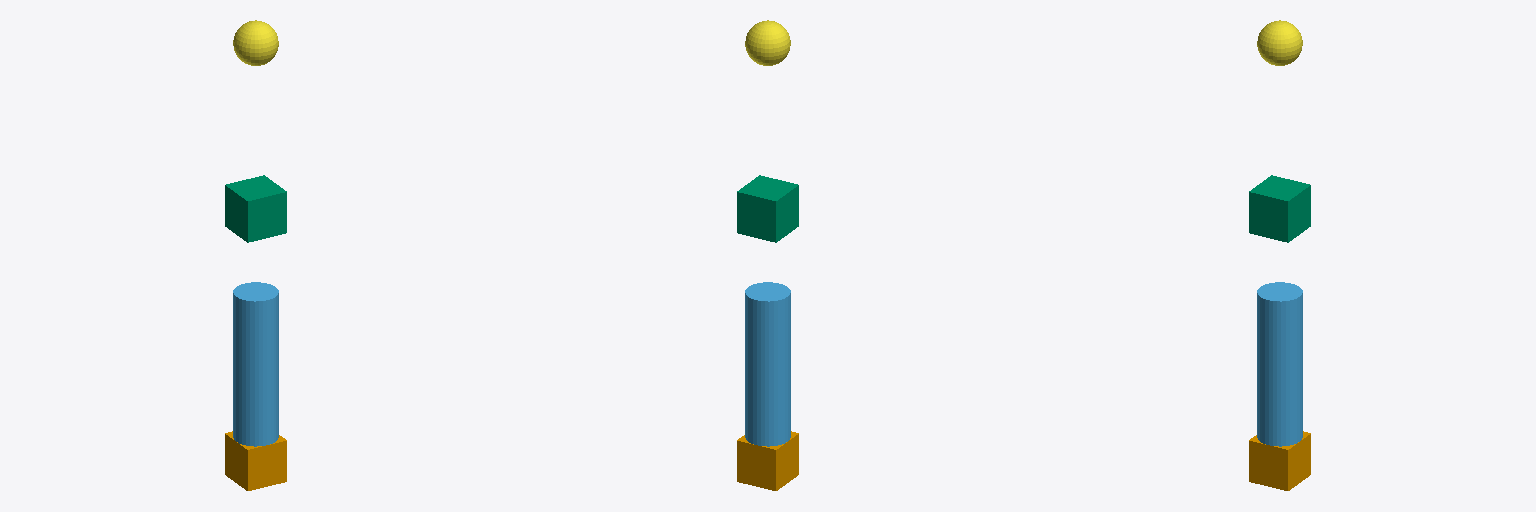
The robot description file, URDF, robot "robot_arm":
<?xml version="1.0"?>

<robot name="robot_arm" xmlns:xacro="http://www.ros.org/wiki/xacro">

  <!-- Link 1 -->
  <link name="base_link">
    <visual>
      <geometry>
        <box size="0.1 0.1 0.1"/>
      </geometry>
    </visual>
    <collision>
      <geometry>
        <box size="0.1 0.1 0.1"/>
      </geometry>
    </collision>
  </link>

  <!-- Link 2 -->
  <link name="link1">
    <visual>
      <geometry>
        <cylinder length="0.4" radius="0.05"/>
      </geometry>
    </visual>
    <collision>
      <geometry>
        <cylinder length="0.4" radius="0.05"/>
      </geometry>
    </collision>
    <inertial>
      <mass value="1"/>
      <origin xyz="0 0 0.2"/>
      <inertia ixx="0.1" ixy="0" ixz="0" iyy="0.1" iyz="0" izz="0.1"/>
    </inertial>
  </link>

  <!-- Link 3 -->
  <link name="link2">
    <visual>
      <geometry>
        <box size="0.1 0.1 0.1"/>
      </geometry>
    </visual>
    <collision>
      <geometry>
        <box size="0.1 0.1 0.1"/>
      </geometry>
    </collision>
    <inertial>
      <mass value="1"/>
      <origin xyz="0 0 0.05"/>
      <inertia ixx="0.1" ixy="0" ixz="0" iyy="0.1" iyz="0" izz="0.1"/>
    </inertial>
  </link>

  <!-- Link 4 (end effector) -->
  <link name="end_effector">
    <visual>
      <geometry>
        <sphere radius="0.05"/>
      </geometry>
    </visual>
    <collision>
      <geometry>
        <sphere radius="0.05"/>
      </geometry>
    </collision>
    <inertial>
      <mass value="0.1"/>
      <origin xyz="0 0 0"/>
      <inertia ixx="0.01" ixy="0" ixz="0" iyy="0.01" iyz="0" izz="0.01"/>
    </inertial>
  </link>

  <!-- Joints -->
  <joint name="joint1" type="revolute">
    <parent link="base_link"/>
    <child link="link1"/>
    <origin xyz="0 0 0.2" rpy="0 0 0"/>
    <axis xyz="0 0 1"/>
    <limit lower="-1.57" upper="1.57" effort="1000" velocity="10"/>
  </joint>

  <joint name="joint2" type="revolute">
    <parent link="link1"/>
    <child link="link2"/>
    <origin xyz="0 0 0.4" rpy="0 0 0"/>
    <axis xyz="0 1 0"/>
    <limit lower="-1.57" upper="1.57" effort="1000" velocity="10"/>
  </joint>

  <joint name="joint3" type="revolute">
    <parent link="link2"/>
    <child link="end_effector"/>
    <origin xyz="0 0 0.4" rpy="0 0 0"/>
    <axis xyz="0 0 1"/>
    <limit lower="-1.57" upper="1.57" effort="1000" velocity="10"/>
  </joint>

  <!-- Gazebo specific tags -->
  <gazebo>
    <plugin name="robot_state_publisher" filename="libgazebo_ros_robot_state_publisher.so">
      <robotNamespace>/</robotNamespace>
      <alwaysOn>true</alwaysOn>
      <updateRate>100.0</updateRate>
      <publishRate>50.0</publishRate>
      <legacyMode>false</legacyMode>
    </plugin>
  </gazebo>

</robot>

--- What the picture shows (computed from the rendered views, not written in the file) ---
The picture shows the robot from 3 angles, left to right: view 1: azimuth 30°, elevation 25°; view 2: azimuth 150°, elevation 25°; view 3: azimuth 330°, elevation 25°; orthographic projection.
Robot: robot_arm — 4 links, 3 joints (3 revolute); root link base_link; default pose: every joint at zero.
Links seen in each view (by area): view 1: link1, link2, base_link, end_effector; view 2: link1, link2, base_link, end_effector; view 3: link1, link2, base_link, end_effector.
Link boxes in pixels (x1,y1,x2,y2): link1: (233,282,278,446); link2: (225,175,286,242); base_link: (225,431,286,490); end_effector: (233,20,278,65); link1: (745,282,790,446); link2: (737,175,798,242); base_link: (737,431,798,490); end_effector: (745,20,790,65); link1: (1257,282,1302,446); link2: (1249,175,1310,242); base_link: (1249,431,1310,490); end_effector: (1257,20,1302,65).
Size in the robot's own frame: 0.1 by 0.1 by 1.1 metres.
Geometry: primitives only (box / cylinder / sphere), no mesh files.
